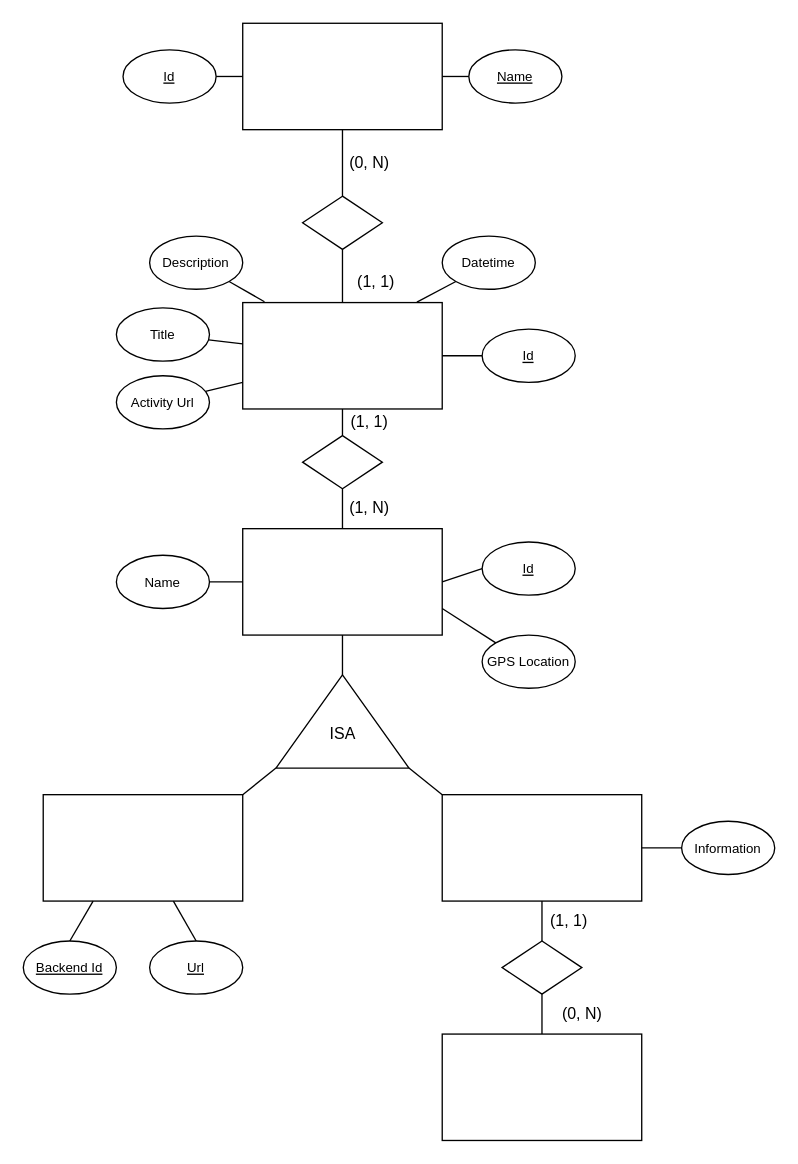
The diagram is 798 pixels wide and 1164 high, and some of its shapes have lost their labels. The box of each missing label's shape, as (x1, y1, x2, y2) in pixels:
Activity: (241, 301, 442, 409)
Activity Type: (241, 22, 442, 130)
Author: (441, 1033, 642, 1140)
Automatic Location: (42, 793, 243, 901)
Location: (241, 527, 442, 635)
Manual Location: (441, 793, 642, 901)
